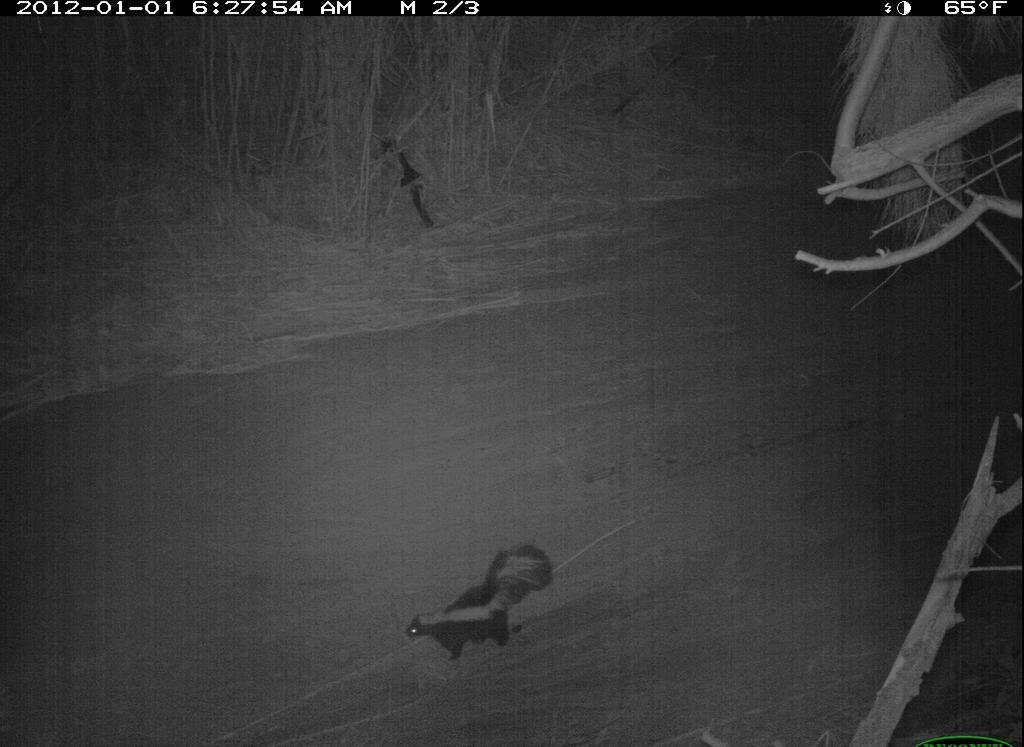skunk: (400, 537, 562, 669)
